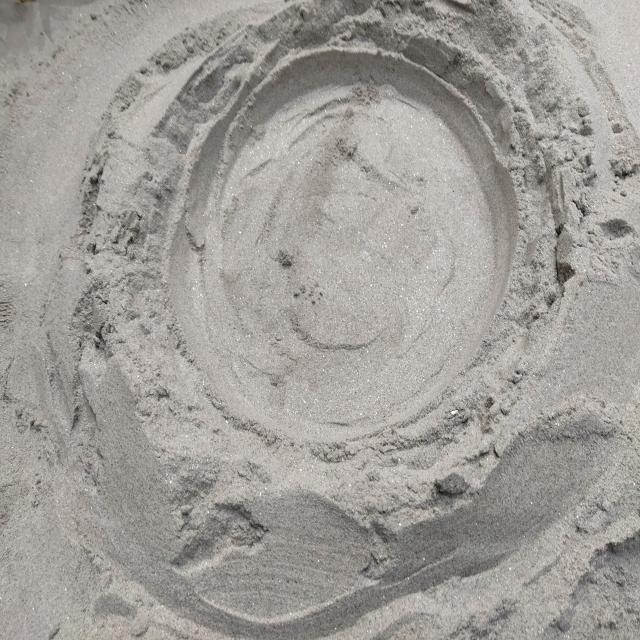C40: (169, 50, 516, 442)
